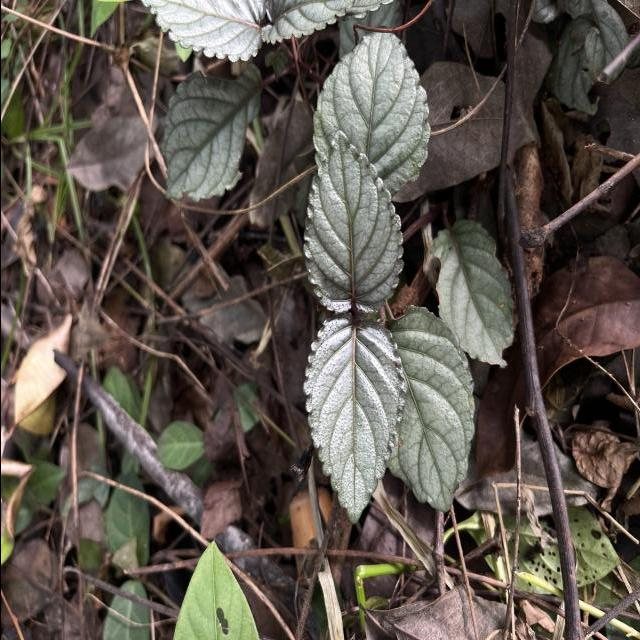Hemigraphis colorata: (299, 310, 408, 527), (308, 23, 432, 198), (386, 302, 478, 516), (300, 128, 406, 308), (158, 64, 268, 205), (421, 214, 516, 370), (136, 0, 265, 64)
